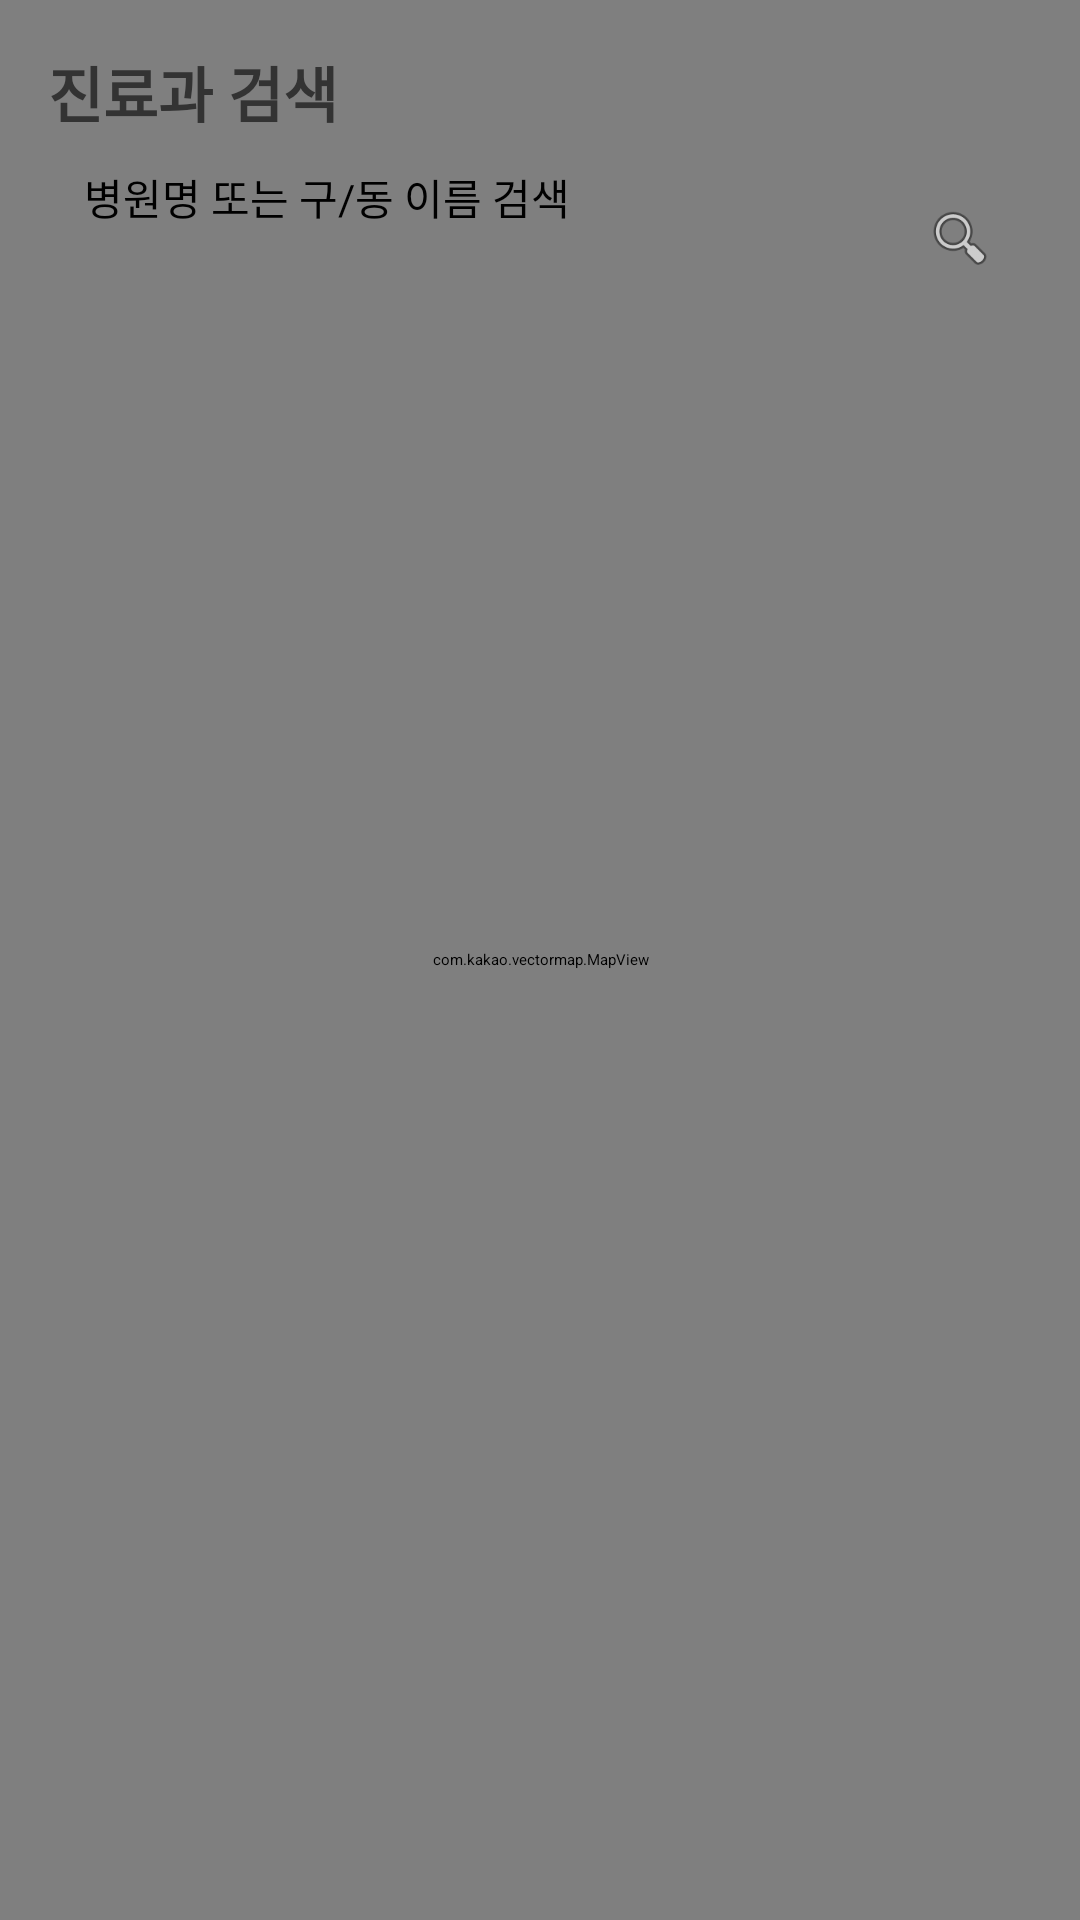

Named icons in this screenshot (1080px×1920px) and their centers, (x,y):
search: (960,238)
